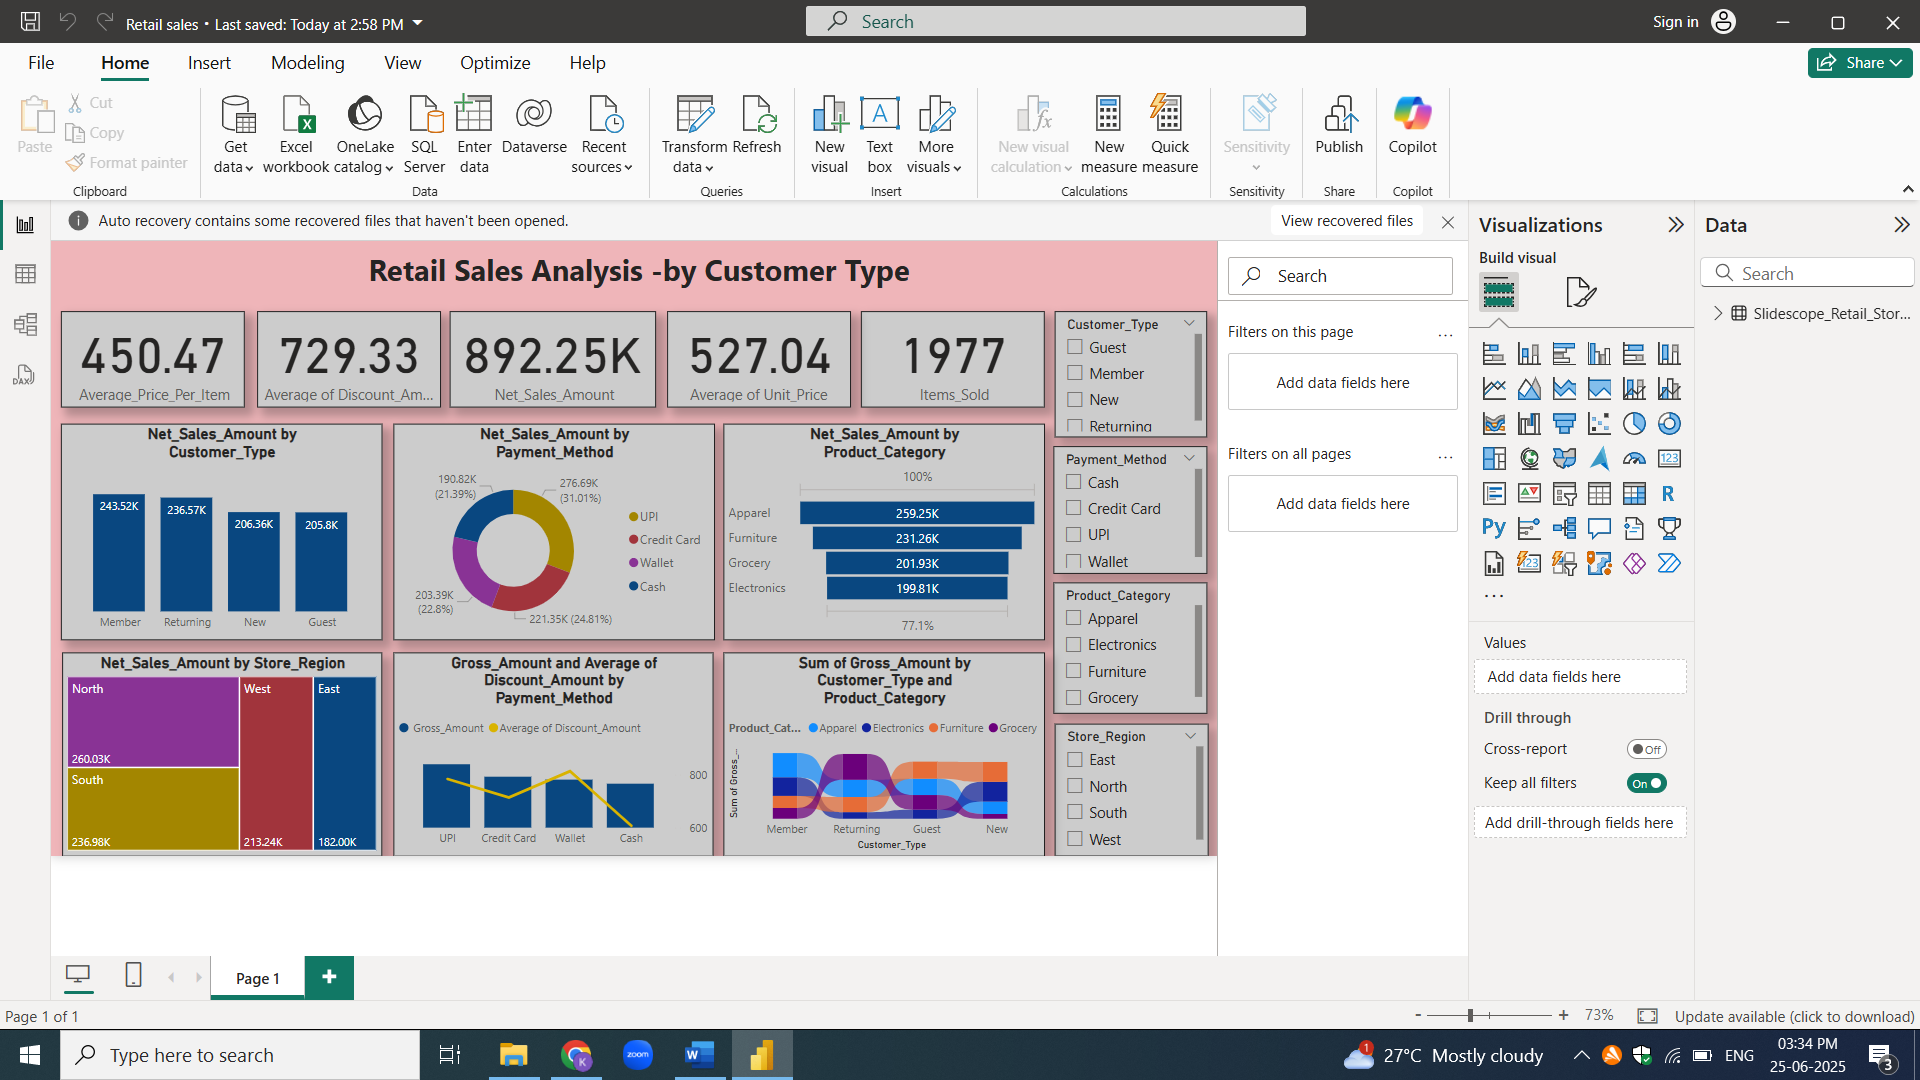

What the dashboard file says about the page in this screenshot:
{"tool":"powerbi","page":{"name":"Page 1","canvas":[1280,720],"ordinal":0},"visuals":[{"type":"card","fields":{"Values":["Avg(Slidescope_Retail_Store_Sales_Enhanced_2025.Average_Price_Per_Item)"]},"box":[11,122.1,201.7,105.7],"z":0},{"type":"card","fields":{"Values":["Avg(Slidescope_Retail_Store_Sales_Enhanced_2025.Discount_Amount)"]},"box":[226.4,122.1,201.7,105.7],"z":1000},{"type":"card","fields":{"Values":["Sum(Slidescope_Retail_Store_Sales_Enhanced_2025.Net_Sales_Amount)"]},"box":[437.7,122.1,226.4,105.7],"z":2000},{"type":"card","fields":{"Values":["Sum(Slidescope_Retail_Store_Sales_Enhanced_2025.Items_Sold)"]},"box":[889.2,122.1,201.7,105.7],"z":3000},{"type":"card","fields":{"Values":["Avg(Slidescope_Retail_Store_Sales_Enhanced_2025.Unit_Price)"]},"box":[676.5,122.1,201.7,105.7],"z":4000},{"type":"columnChart","fields":{"Category":["Slidescope_Retail_Store_Sales_Enhanced_2025.Customer_Type"],"Y":["Sum(Slidescope_Retail_Store_Sales_Enhanced_2025.Net_Sales_Amount)"]},"box":[11,245.6,352.7,237.4],"z":5000},{"type":"donutChart","fields":{"Category":["Slidescope_Retail_Store_Sales_Enhanced_2025.Payment_Method"],"Y":["Sum(Slidescope_Retail_Store_Sales_Enhanced_2025.Net_Sales_Amount)"]},"box":[376,245.6,352.7,237.4],"z":6000},{"type":"funnel","fields":{"Category":["Slidescope_Retail_Store_Sales_Enhanced_2025.Product_Category","Slidescope_Retail_Store_Sales_Enhanced_2025.Payment_Method"],"Y":["Sum(Slidescope_Retail_Store_Sales_Enhanced_2025.Net_Sales_Amount)"]},"box":[738.3,245.6,352.7,237.4],"z":7000},{"type":"slicer","fields":{"Values":["Slidescope_Retail_Store_Sales_Enhanced_2025.Customer_Type"]},"box":[1101.9,122.1,167.4,138.6],"z":9000},{"type":"slicer","fields":{"Values":["Slidescope_Retail_Store_Sales_Enhanced_2025.Payment_Method"]},"box":[1100.5,270.3,168.8,140],"z":10000},{"type":"slicer","fields":{"Values":["Slidescope_Retail_Store_Sales_Enhanced_2025.Product_Category"]},"box":[1100.5,419.9,168.8,144.1],"z":11000},{"type":"treemap","fields":{"Values":["Sum(Slidescope_Retail_Store_Sales_Enhanced_2025.Net_Sales_Amount)"],"Group":["Slidescope_Retail_Store_Sales_Enhanced_2025.Store_Region"]},"box":[12.3,496.7,351.3,223.7],"z":12000},{"type":"lineStackedColumnComboChart","fields":{"Category":["Slidescope_Retail_Store_Sales_Enhanced_2025.Payment_Method"],"Y":["Sum(Slidescope_Retail_Store_Sales_Enhanced_2025.Gross_Amount)"],"Y2":["Avg(Slidescope_Retail_Store_Sales_Enhanced_2025.Discount_Amount)"]},"box":[376,496.7,351.3,223.7],"z":13000},{"type":"slicer","fields":{"Values":["Slidescope_Retail_Store_Sales_Enhanced_2025.Store_Region"]},"box":[1101.9,575,168.8,145.5],"z":14000},{"type":"ribbonChart","fields":{"Category":["Slidescope_Retail_Store_Sales_Enhanced_2025.Customer_Type"],"Y":["Sum(Slidescope_Retail_Store_Sales_Enhanced_2025.Gross_Amount)"],"Series":["Slidescope_Retail_Store_Sales_Enhanced_2025.Product_Category"]},"box":[738.3,496.7,352.7,223.7],"z":15000},{"type":"textbox","box":[11,34.3,1269.3,75.5],"z":17000}]}

Visuals, with their boxes on the page's 1280x720 design canvas (x1, y1, x2, y2). These are canvas units, not pixel positions in the 1920x1080 screenshot, which may show the page scaled, cropped or inside an application window:
card - Avg(Slidescope_Retail_Store_Sales_Enhanced_2025.Average_Price_Per_Item): crop(11, 122, 213, 228)
card - Avg(Slidescope_Retail_Store_Sales_Enhanced_2025.Discount_Amount): crop(226, 122, 428, 228)
card - Sum(Slidescope_Retail_Store_Sales_Enhanced_2025.Net_Sales_Amount): crop(438, 122, 664, 228)
card - Sum(Slidescope_Retail_Store_Sales_Enhanced_2025.Items_Sold): crop(889, 122, 1091, 228)
card - Avg(Slidescope_Retail_Store_Sales_Enhanced_2025.Unit_Price): crop(676, 122, 878, 228)
columnChart - Slidescope_Retail_Store_Sales_Enhanced_2025.Customer_Type x Sum(Slidescope_Retail_Store_Sales_Enhanced_2025.Net_Sales_Amount): crop(11, 246, 364, 483)
donutChart - Slidescope_Retail_Store_Sales_Enhanced_2025.Payment_Method x Sum(Slidescope_Retail_Store_Sales_Enhanced_2025.Net_Sales_Amount): crop(376, 246, 729, 483)
funnel - Slidescope_Retail_Store_Sales_Enhanced_2025.Product_Category x Slidescope_Retail_Store_Sales_Enhanced_2025.Payment_Method: crop(738, 246, 1091, 483)
slicer - Slidescope_Retail_Store_Sales_Enhanced_2025.Customer_Type: crop(1102, 122, 1269, 261)
slicer - Slidescope_Retail_Store_Sales_Enhanced_2025.Payment_Method: crop(1100, 270, 1269, 410)
slicer - Slidescope_Retail_Store_Sales_Enhanced_2025.Product_Category: crop(1100, 420, 1269, 564)
treemap - Sum(Slidescope_Retail_Store_Sales_Enhanced_2025.Net_Sales_Amount) x Slidescope_Retail_Store_Sales_Enhanced_2025.Store_Region: crop(12, 497, 364, 720)
lineStackedColumnComboChart - Slidescope_Retail_Store_Sales_Enhanced_2025.Payment_Method x Sum(Slidescope_Retail_Store_Sales_Enhanced_2025.Gross_Amount): crop(376, 497, 727, 720)
slicer - Slidescope_Retail_Store_Sales_Enhanced_2025.Store_Region: crop(1102, 575, 1271, 720)
ribbonChart - Slidescope_Retail_Store_Sales_Enhanced_2025.Customer_Type x Sum(Slidescope_Retail_Store_Sales_Enhanced_2025.Gross_Amount): crop(738, 497, 1091, 720)
textbox: crop(11, 34, 1280, 110)
